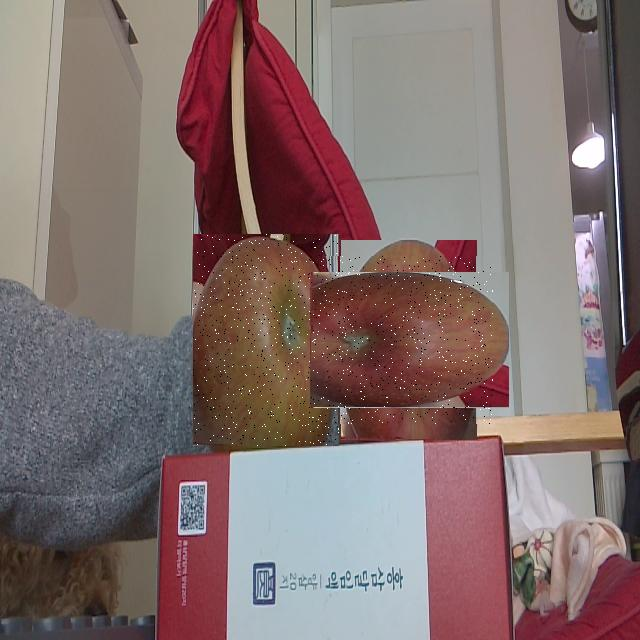apple: (193, 234, 339, 446), (326, 256, 494, 424)
